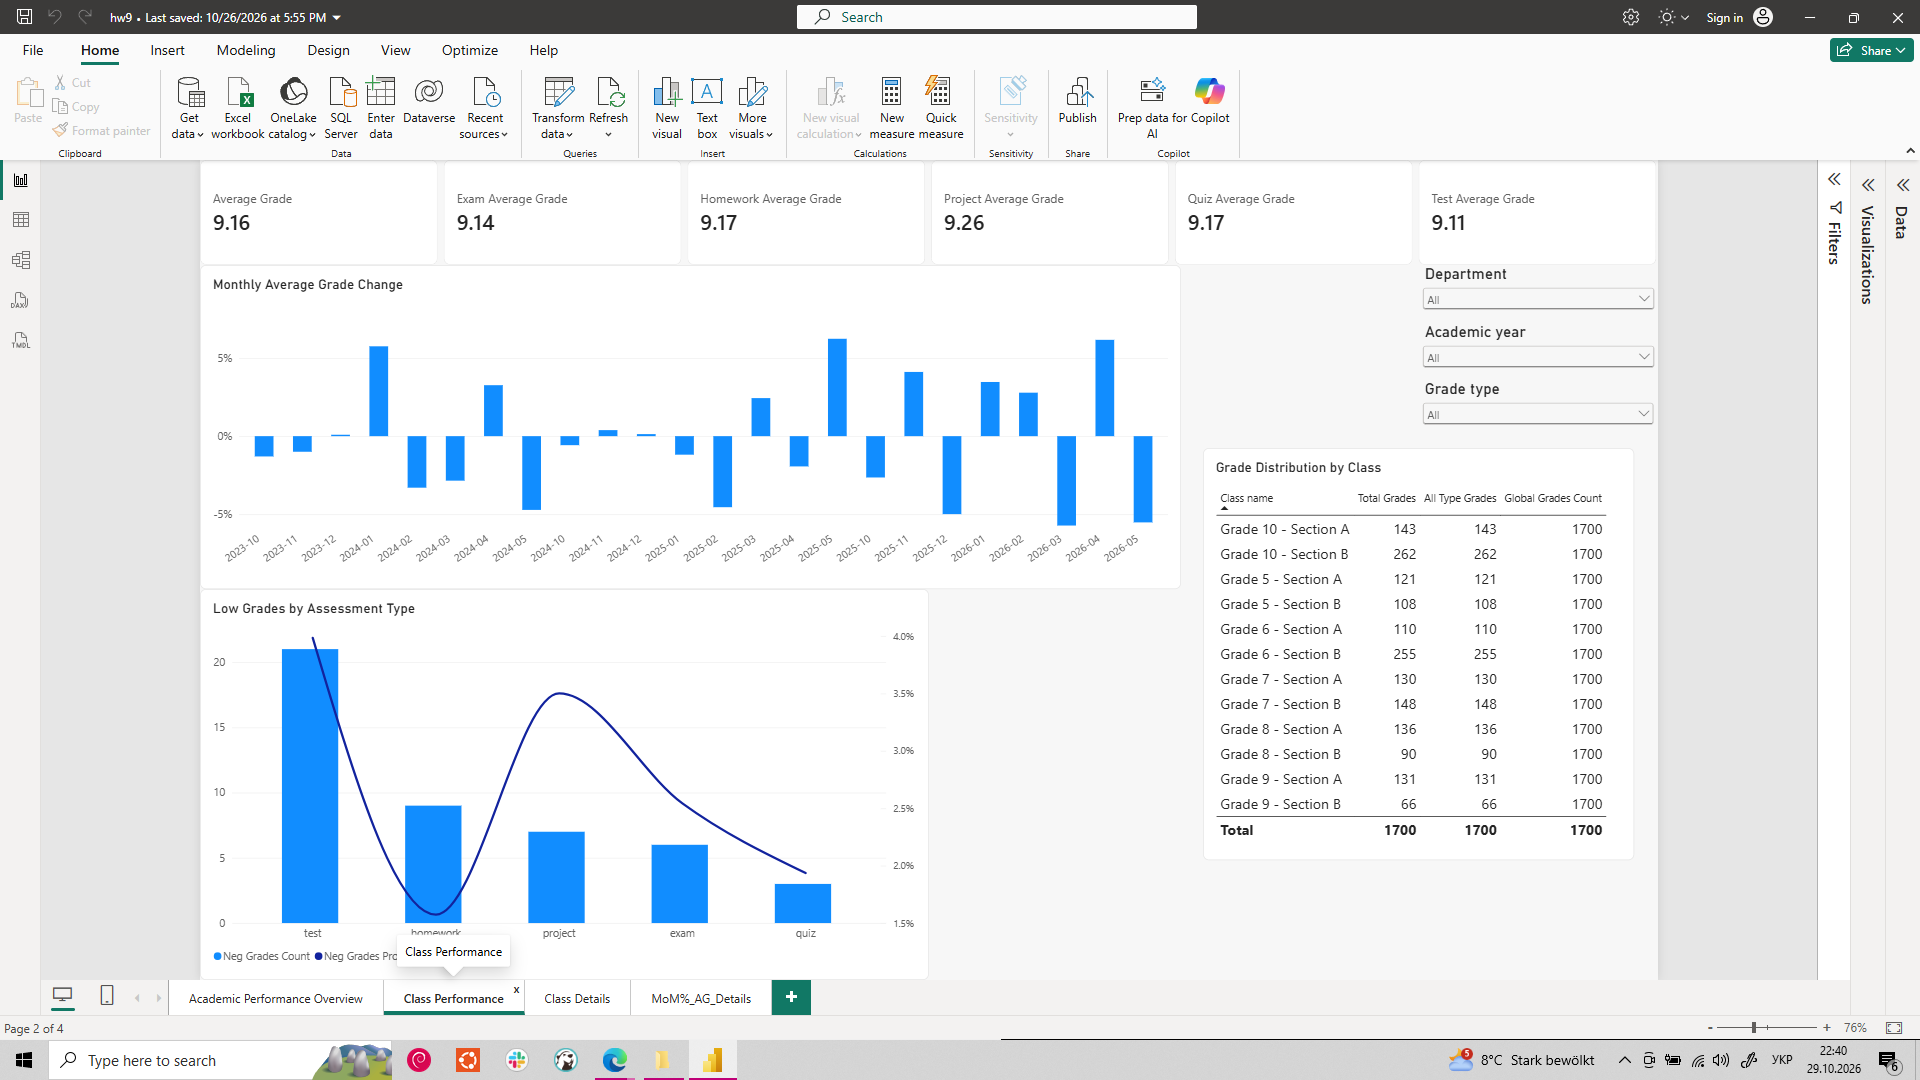

The page's visual inventory and layout, read from the dashboard file:
{"tool":"powerbi","page":{"name":"Class Performance","canvas":[1920,1080],"ordinal":1},"visuals":[{"type":"cardVisual","fields":{"Data":["_Measures.Average_Grade_Measures","_Measures.Exam_Average_Grade_Measures","_Measures.Homework Average Grade","_Measures.Project Average Grade","_Measures.Quiz Average Grade","_Measures.Test Average Grade"]},"box":[0,0,1920.3,138.3],"z":0},{"type":"tableEx","title":"Grade Distribution by Class","fields":{"Values":["classes.class_name","_Measures.Total Grades","_Measures.All Type Grades","_Measures.Global Grades Count"]},"box":[1321,379.3,567.7,542.6],"z":1},{"type":"lineClusteredColumnComboChart","title":"Low Grades by Assessment Type","fields":{"Category":["grades.grade_type"],"Y":["_Measures.Neg Grades Count"],"Y2":["_Measures.Neg Grades Prop"]},"box":[0,565,960.1,515],"z":2},{"type":"clusteredColumnChart","title":"Monthly Average Grade Change","fields":{"Category":["calendar.year_month"],"Y":["_Measures.MoM_AG%"]},"box":[0,138.3,1292,426.7],"z":3},{"type":"slicer","fields":{"Values":["grades.grade_type"]},"box":[1605.9,289.8,314.1,62.3],"z":4},{"type":"slicer","fields":{"Values":["periods.academic_year"]},"box":[1605.5,214.7,314.8,64.5],"z":5},{"type":"slicer","fields":{"Values":["subjects.department_hint"]},"box":[1605.5,138.3,314.8,76.4],"z":6}]}

Visuals, with their boxes on the page's 1920x1080 design canvas (x1, y1, x2, y2). These are canvas units, not pixel positions in the 1920x1080 screenshot, which may show the page scaled, cropped or inside an application window:
cardVisual - _Measures.Average_Grade_Measures x _Measures.Exam_Average_Grade_Measures: [x1=0, y1=0, x2=1920, y2=138]
"Grade Distribution by Class" tableEx: [x1=1321, y1=379, x2=1889, y2=922]
"Low Grades by Assessment Type" lineClusteredColumnComboChart: [x1=0, y1=565, x2=960, y2=1080]
"Monthly Average Grade Change" clusteredColumnChart: [x1=0, y1=138, x2=1292, y2=565]
slicer - grades.grade_type: [x1=1606, y1=290, x2=1920, y2=352]
slicer - periods.academic_year: [x1=1606, y1=215, x2=1920, y2=279]
slicer - subjects.department_hint: [x1=1606, y1=138, x2=1920, y2=215]
